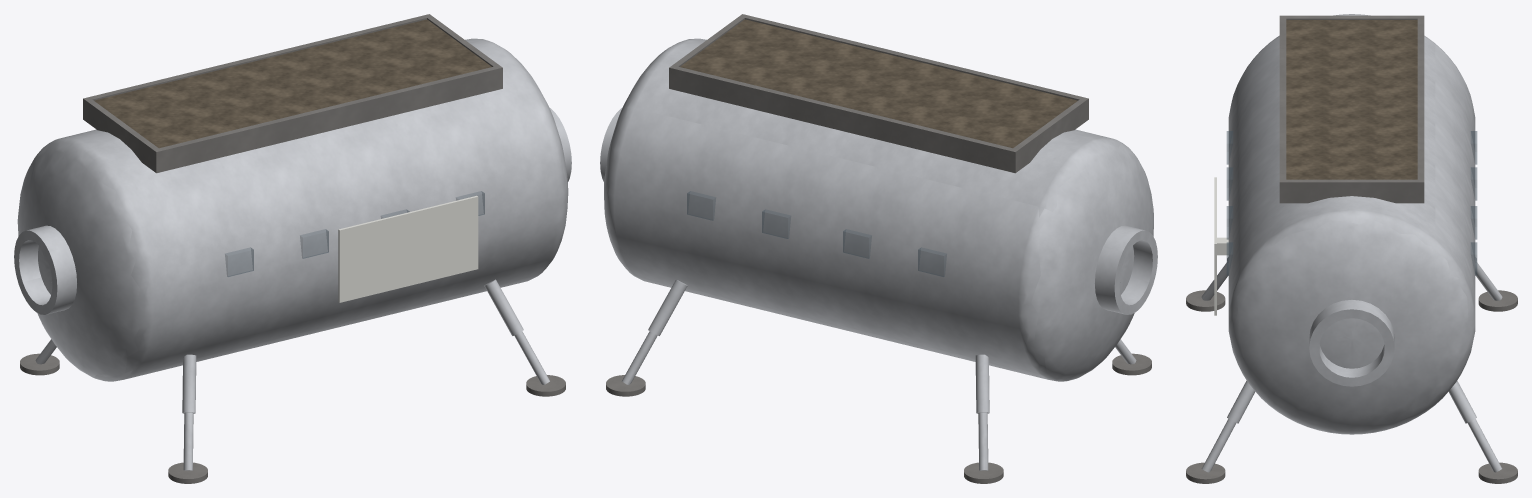
Rendered from rover10_surface_hab.glb.
The picture shows the model from 3 angles, left to right: view 1: azimuth 30°, elevation 25°; view 2: azimuth 150°, elevation 25°; view 3: azimuth 270°, elevation 25°; orthographic projection.
Visible parts, largest first — view 1: hull, regolith_fill, shield_tray, radiator, hatch_collars, leveling_legs, foot_pads, windows; view 2: hull, regolith_fill, shield_tray, hatch_collars, leveling_legs, windows, foot_pads; view 3: hull, regolith_fill, shield_tray, hatch_collars, leveling_legs, foot_pads, windows, radiator.
Boxes of the visible parts, x1,y1,x2,y2 form: hull: [17, 38, 568, 381]; regolith_fill: [94, 19, 491, 148]; shield_tray: [83, 14, 502, 173]; radiator: [338, 195, 478, 302]; hatch_collars: [14, 107, 571, 314]; leveling_legs: [35, 279, 549, 470]; foot_pads: [20, 353, 565, 483]; windows: [225, 191, 484, 276]; hull: [604, 38, 1153, 381]; regolith_fill: [680, 19, 1077, 148]; shield_tray: [669, 14, 1088, 173]; hatch_collars: [600, 107, 1157, 314]; leveling_legs: [622, 279, 1136, 470]; windows: [687, 191, 946, 276]; foot_pads: [606, 353, 1151, 483]; hull: [1228, 14, 1475, 434]; regolith_fill: [1286, 20, 1417, 179]; shield_tray: [1279, 15, 1424, 203]; hatch_collars: [1309, 300, 1394, 386]; leveling_legs: [1201, 257, 1502, 472]; foot_pads: [1186, 290, 1517, 483]; windows: [1226, 131, 1477, 275]; radiator: [1214, 177, 1228, 315].
Size of the model in its own units: 8.91 by 4.88 by 5.05.
Materials: 5 (3 with a texture image).
